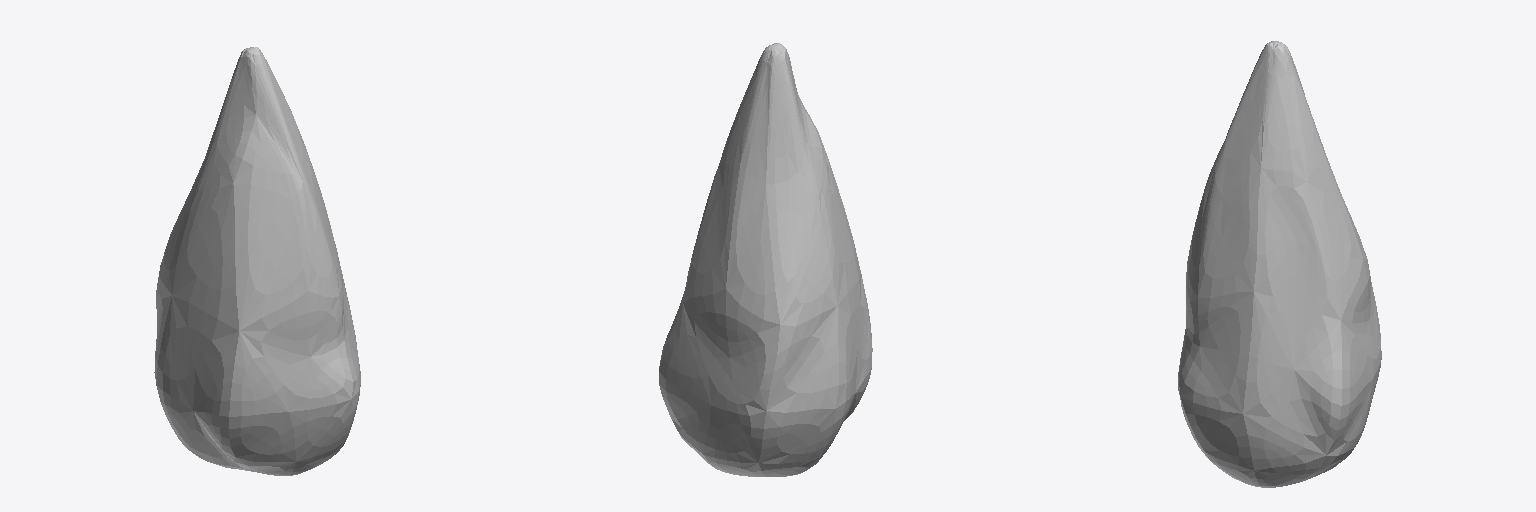
File: pile.obj
3 renders of one model, left to right at view 1: azimuth 30°, elevation 25°; view 2: azimuth 150°, elevation 25°; view 3: azimuth 270°, elevation 25°, orthographic.
Parts seen in each view (by area): view 1: Cube; view 2: Cube; view 3: Cube.
Boxes of the visible parts, x1,y1,x2,y2 form: Cube: [154, 47, 360, 475]; Cube: [659, 43, 872, 476]; Cube: [1178, 41, 1381, 487].
Size of the model in its own units: 4.49 by 10.55 by 4.63.